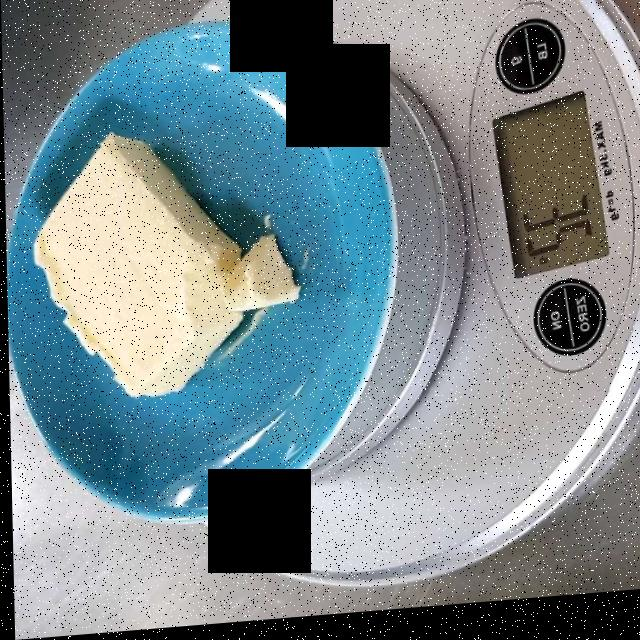butter: (31, 140, 292, 395)
